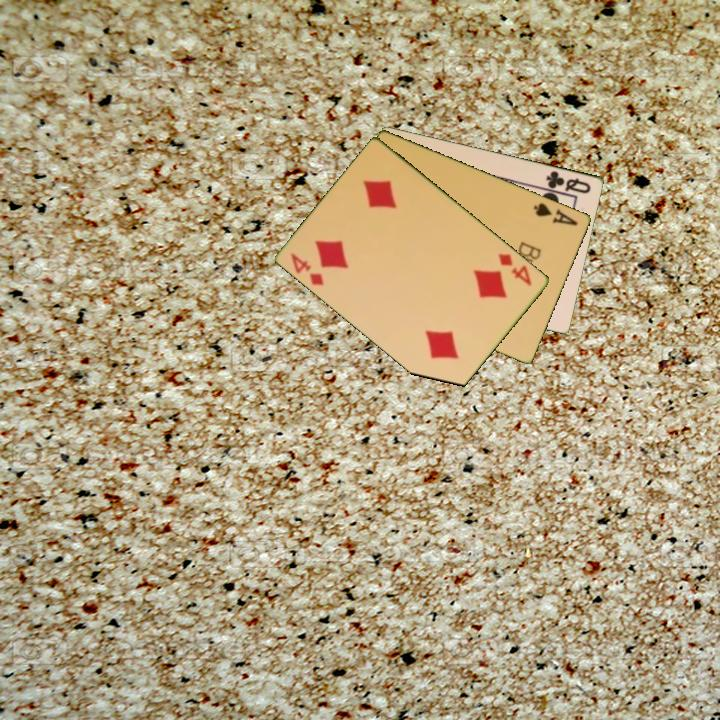4d: (495, 250, 535, 289), (287, 249, 327, 288)
As: (530, 199, 581, 229)
Qc: (543, 167, 594, 196)
